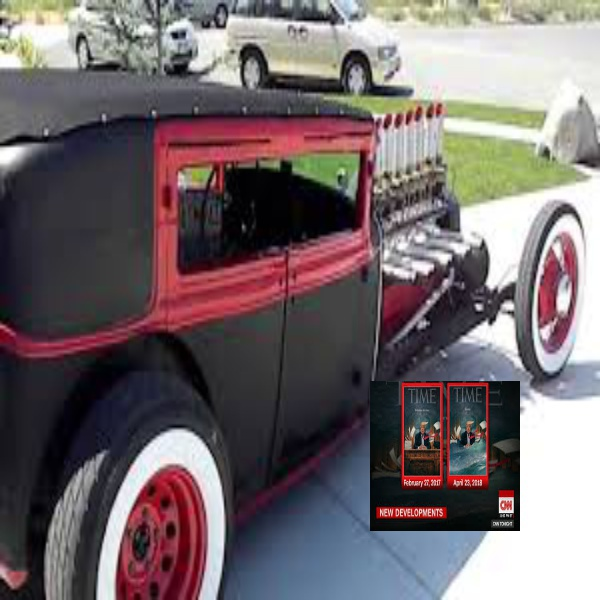time_cover: (402, 380, 442, 488), (453, 383, 491, 485)
